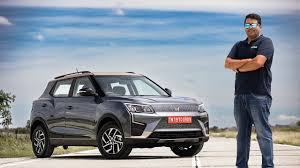XUV 400: (28, 68, 210, 158)
